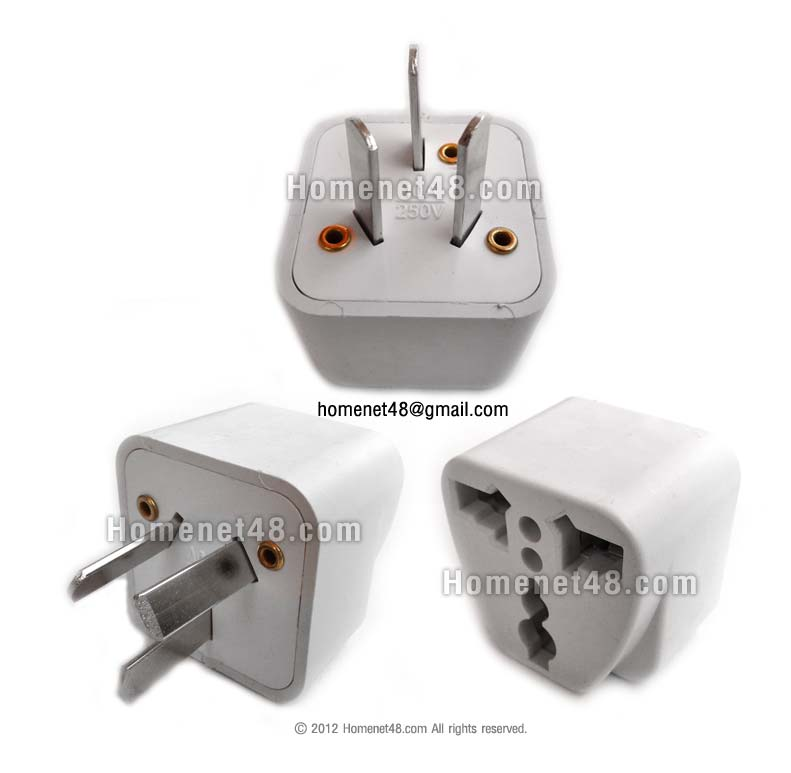Three_eye_plug: (57, 393, 409, 720), (269, 43, 565, 404), (434, 392, 750, 701)
